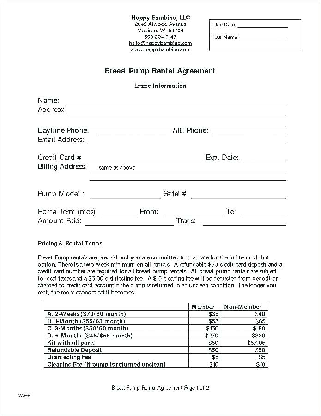textline: (67, 95, 288, 108), (67, 107, 288, 118), (88, 173, 290, 184), (67, 119, 288, 129), (90, 162, 288, 173), (86, 136, 289, 146), (84, 153, 203, 165), (190, 191, 287, 202), (203, 217, 288, 229), (85, 217, 175, 228), (88, 190, 162, 201), (211, 128, 287, 138), (95, 129, 170, 137), (165, 209, 224, 219), (241, 153, 288, 164), (241, 208, 288, 219), (100, 209, 138, 220)
